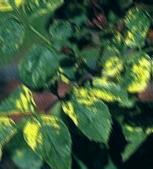Tomato leaf mosaic virus: (63, 93, 111, 145), (29, 115, 72, 169), (19, 43, 61, 87), (123, 5, 153, 50), (0, 13, 29, 55), (23, 0, 72, 18), (48, 20, 82, 41)
